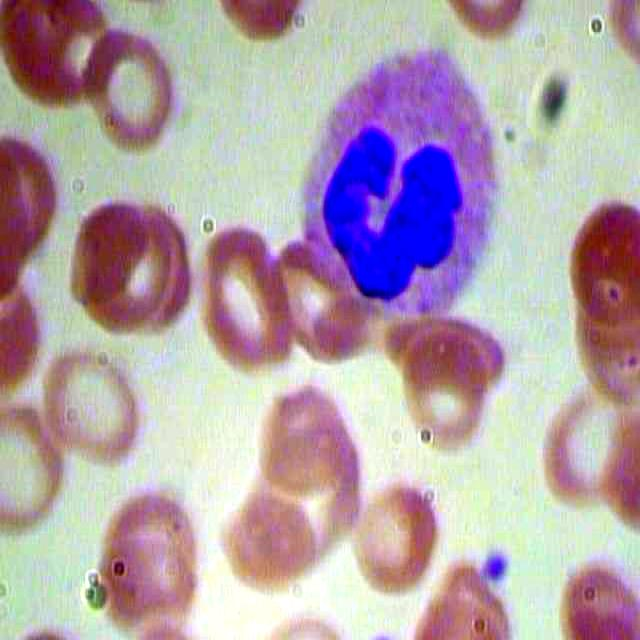Platelets: (477, 548, 523, 587)
RBC: (399, 309, 501, 456), (536, 365, 638, 512), (266, 241, 368, 388), (254, 357, 356, 504), (195, 223, 297, 369), (81, 24, 194, 153), (225, 478, 328, 610), (43, 345, 144, 468), (347, 473, 448, 596), (97, 483, 198, 605), (66, 182, 153, 322), (559, 181, 640, 327)
WBC: (285, 40, 509, 317)
